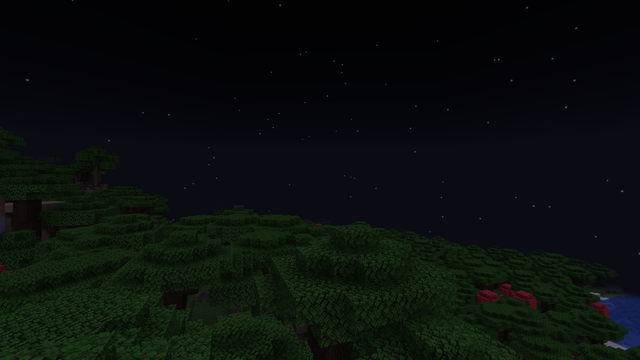araignees: (197, 289, 207, 302)
